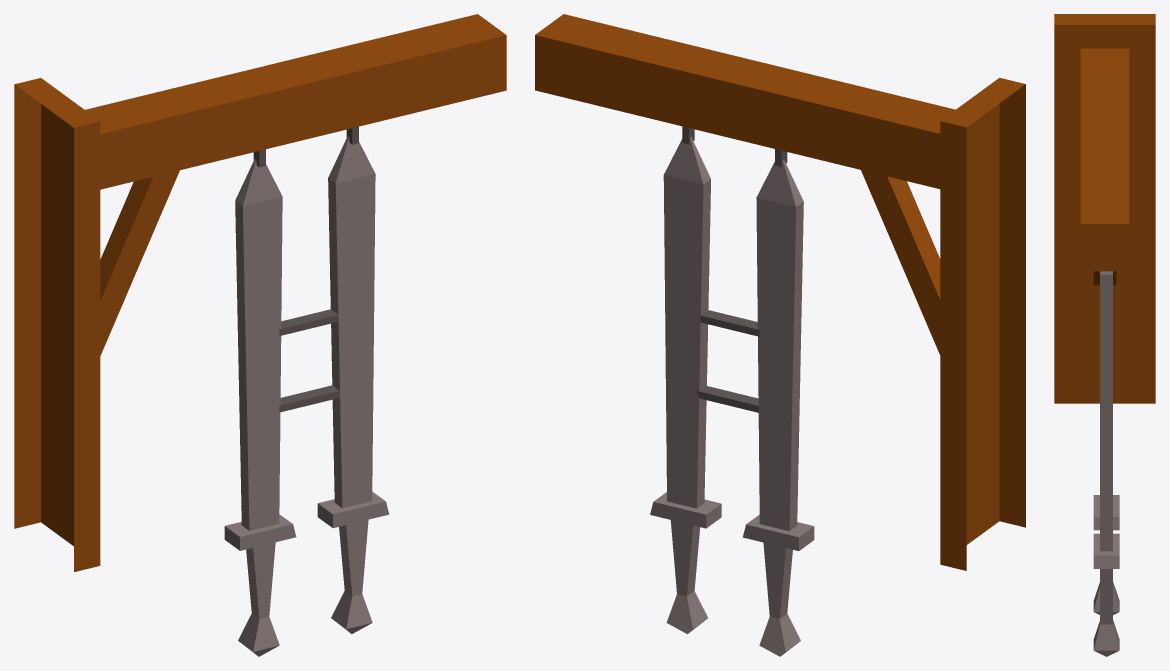
Rendered from model_loc_1054_q.obj.
The picture shows the model from 3 angles, left to right: view 1: azimuth 30°, elevation 25°; view 2: azimuth 150°, elevation 25°; view 3: azimuth 270°, elevation 25°; orthographic projection. The views are drawn at different scales.
Parts seen in each view (by area): view 1: 1935; view 2: 1935; view 3: 1935.
Part boxes in pixels (x1=…): 1935: x1=14, y1=14, x2=506, y2=656; 1935: x1=535, y1=14, x2=1025, y2=656; 1935: x1=1054, y1=14, x2=1155, y2=656.
Size of the model in its own units: 135 by 174 by 31.
